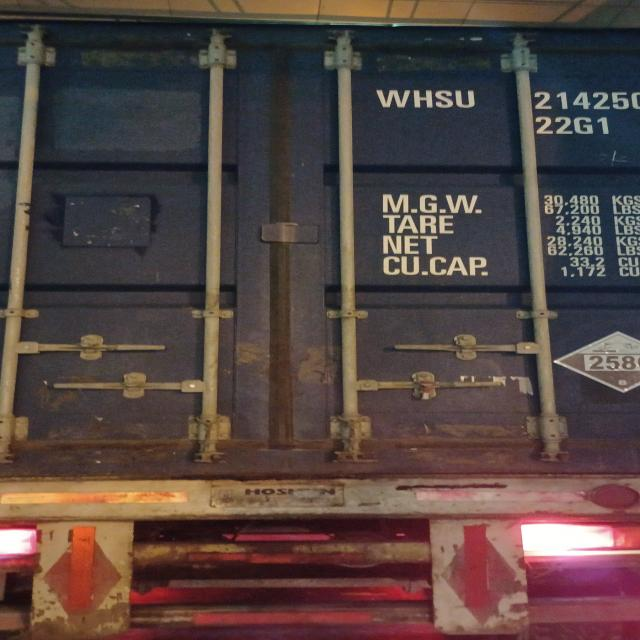seal: (419, 378, 436, 401)
